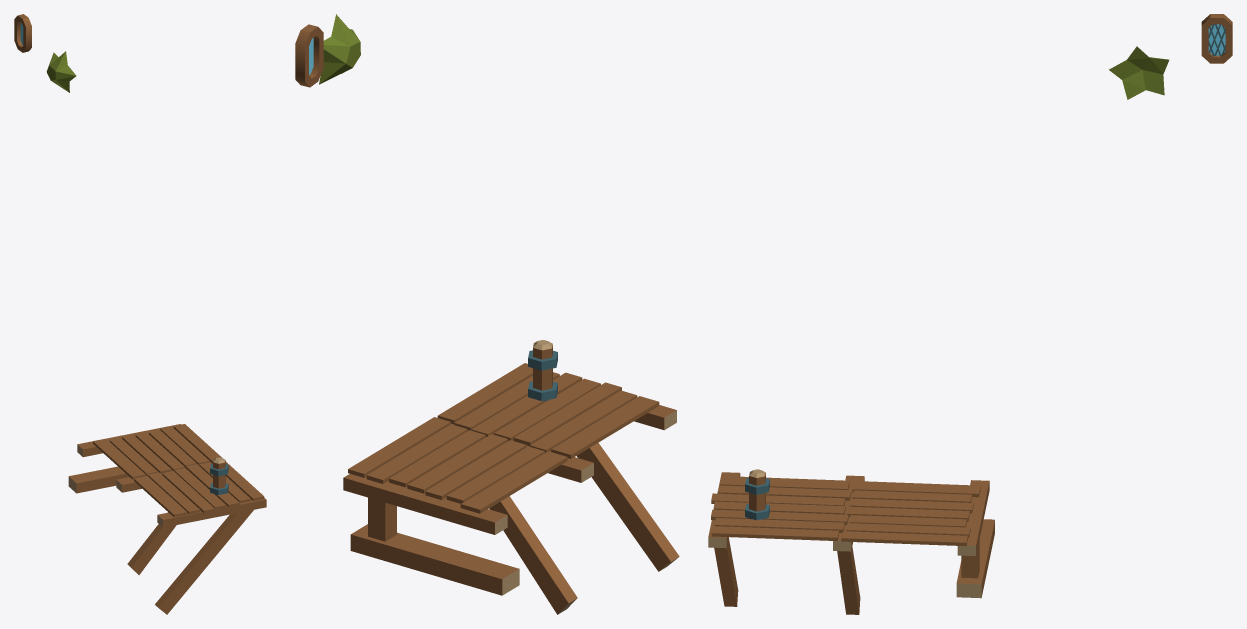
The picture shows the model from 3 angles, left to right: view 1: azimuth 30°, elevation 25°; view 2: azimuth 150°, elevation 25°; view 3: azimuth 270°, elevation 25°; orthographic projection. The views are drawn at different scales.
Visible parts, largest first — view 1: Plane367_brown_0, Plane366_brown_0, Box15585_brown_0, Box15586_brown_0, Box15588_brown_0, Box15973_green2_0, Plane438_brown_0; view 2: Plane367_brown_0, Plane366_brown_0, Box15585_brown_0, Box15586_brown_0, Box15588_brown_0, Box15973_green2_0, Plane438_brown_0, Box15587_brown_0, Box15585_brown2_0, Cylinder1706_metal_0, Cylinder1706_brown_0; view 3: Plane367_brown_0, Plane366_brown_0, Box15585_brown_0, Box15973_green2_0, Box15588_brown_0, Box15586_brown_0, Plane438_brown_0, Box15585_brown2_0.
Part boxes in pixels (x1=…): Plane367_brown_0: x1=93, y1=424, x2=221, y2=479; Plane366_brown_0: x1=134, y1=461, x2=264, y2=517; Box15585_brown_0: x1=69, y1=424, x2=266, y2=527; Box15586_brown_0: x1=155, y1=510, x2=253, y2=614; Box15588_brown_0: x1=127, y1=512, x2=176, y2=574; Box15973_green2_0: x1=46, y1=51, x2=76, y2=92; Plane438_brown_0: x1=14, y1=14, x2=31, y2=52; Plane367_brown_0: x1=348, y1=417, x2=567, y2=513; Plane366_brown_0: x1=437, y1=363, x2=659, y2=458; Box15585_brown_0: x1=343, y1=375, x2=676, y2=595; Box15586_brown_0: x1=577, y1=442, x2=679, y2=571; Box15588_brown_0: x1=489, y1=496, x2=577, y2=614; Box15973_green2_0: x1=319, y1=14, x2=360, y2=84; Plane438_brown_0: x1=295, y1=24, x2=323, y2=87; Box15587_brown_0: x1=368, y1=497, x2=396, y2=541; Box15585_brown2_0: x1=495, y1=410, x2=676, y2=595; Cylinder1706_metal_0: x1=528, y1=350, x2=557, y2=401; Cylinder1706_brown_0: x1=533, y1=345, x2=552, y2=390; Plane367_brown_0: x1=841, y1=481, x2=980, y2=546; Plane366_brown_0: x1=711, y1=476, x2=851, y2=540; Box15585_brown_0: x1=708, y1=472, x2=994, y2=596; Box15973_green2_0: x1=1109, y1=46, x2=1169, y2=99; Box15588_brown_0: x1=837, y1=547, x2=860, y2=614; Box15586_brown_0: x1=714, y1=538, x2=738, y2=606; Plane438_brown_0: x1=1201, y1=14, x2=1232, y2=63; Box15585_brown2_0: x1=708, y1=537, x2=981, y2=598.
Bounding box in the file's own units: 390 × 1471 × 1135.
